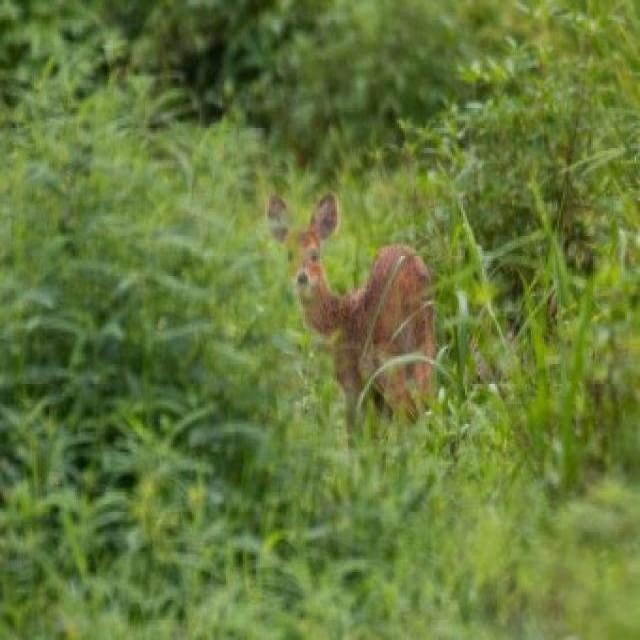deer: (256, 178, 471, 498)
